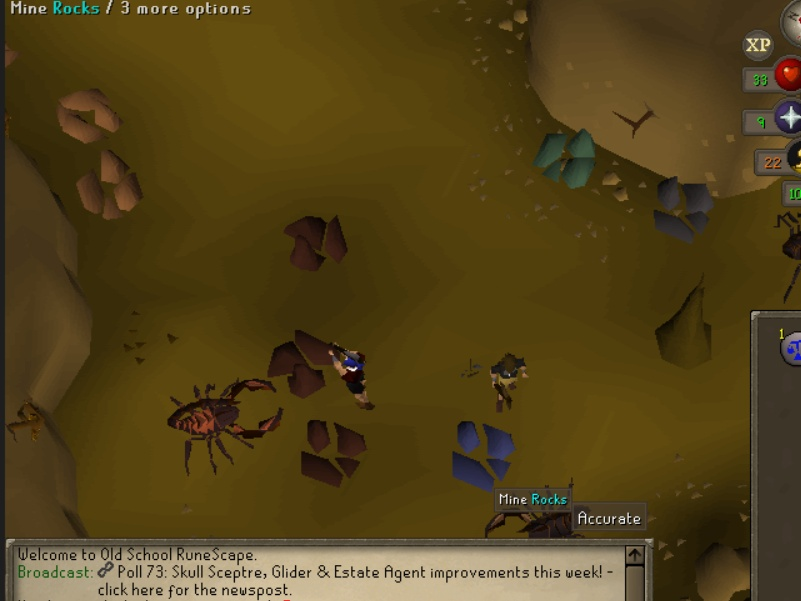adamant: (528, 111, 606, 194)
copper: (70, 143, 149, 226), (50, 76, 131, 145)
iron: (263, 322, 352, 402), (278, 210, 353, 276), (297, 418, 372, 484)
mithril: (446, 413, 522, 492)
